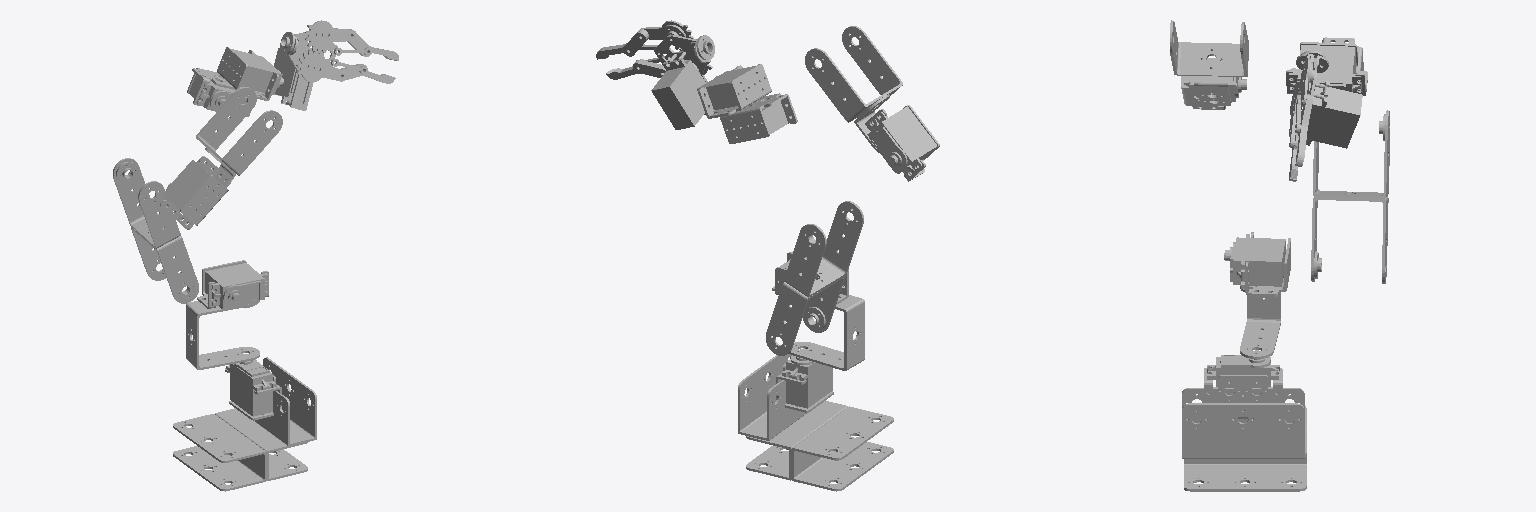
The robot description file, URDF, robot "robotic_arm_model_v2":
<?xml version="1.0" encoding="utf-8"?>
<!-- This URDF was automatically created by SolidWorks to URDF Exporter! Originally created by [author] ([email redacted]) 
     Commit Version: 1.6.0-4-g7f85cfe  Build Version: 1.6.7995.38578
     For more information, please see http://wiki.ros.org/sw_urdf_exporter -->
<robot
  name="robotic_arm_model_v2">
  <link
    name="Link_1">
    <inertial>
      <origin
        xyz="0.00139306780894399 -0.00940529906912735 0.0453587398679983"
        rpy="0 0 0" />
      <mass
        value="0.0953444546366154" />
      <inertia
        ixx="5.93899507525618E-05"
        ixy="-1.95760719485949E-08"
        ixz="-1.60400346152967E-07"
        iyy="2.6536038073633E-05"
        iyz="-1.32399943739737E-07"
        izz="5.70826120419313E-05" />
    </inertial>
    <visual>
      <origin
        xyz="0 0 0"
        rpy="0 0 0" />
      <geometry>
        <mesh
          filename="package://robotic_arm_model_v2/meshes/Link_1.STL" />
      </geometry>
      <material
        name="">
        <color
          rgba="0.752941176470588 0.752941176470588 0.752941176470588 1" />
      </material>
    </visual>
    <collision>
      <origin
        xyz="0 0 0"
        rpy="0 0 0" />
      <geometry>
        <mesh
          filename="package://robotic_arm_model_v2/meshes/Link_1.STL" />
      </geometry>
    </collision>
  </link>
  <link
    name="Link_2">
    <inertial>
      <origin
        xyz="-0.00834673768181382 0.0592848892623844 -0.0104318358374922"
        rpy="0 0 0" />
      <mass
        value="0.0465317343045151" />
      <inertia
        ixx="1.28967179873652E-05"
        ixy="-1.15476212501747E-07"
        ixz="-2.00612047421851E-06"
        iyy="1.41046479531017E-05"
        iyz="1.1020913809783E-07"
        izz="1.28042688740714E-05" />
    </inertial>
    <visual>
      <origin
        xyz="0 0 0"
        rpy="0 0 0" />
      <geometry>
        <mesh
          filename="package://robotic_arm_model_v2/meshes/Link_2.STL" />
      </geometry>
      <material
        name="">
        <color
          rgba="0.752941176470588 0.752941176470588 0.752941176470588 1" />
      </material>
    </visual>
    <collision>
      <origin
        xyz="0 0 0"
        rpy="0 0 0" />
      <geometry>
        <mesh
          filename="package://robotic_arm_model_v2/meshes/Link_2.STL" />
      </geometry>
    </collision>
  </link>
  <joint
    name="Joint_1"
    type="continuous">
    <origin
      xyz="0 0 0.05"
      rpy="0 0 0" />
    <parent
      link="Link_1" />
    <child
      link="Link_2" />
    <axis
      xyz="0 1 0" />
  </joint>
  <link
    name="Link_3">
    <inertial>
      <origin
        xyz="-0.00411555735719238 -0.0490782066853519 0.0151869177885213"
        rpy="0 0 0" />
      <mass
        value="0.0196331437668371" />
      <inertia
        ixx="8.60828290211513E-06"
        ixy="-6.25849778733872E-07"
        ixz="-2.65465712392E-06"
        iyy="1.03763652187604E-05"
        iyz="1.48452113073735E-06"
        izz="1.38316237538039E-05" />
    </inertial>
    <visual>
      <origin
        xyz="0 0 0"
        rpy="0 0 0" />
      <geometry>
        <mesh
          filename="package://robotic_arm_model_v2/meshes/Link_3.STL" />
      </geometry>
      <material
        name="">
        <color
          rgba="0.752941176470588 0.752941176470588 0.752941176470588 1" />
      </material>
    </visual>
    <collision>
      <origin
        xyz="0 0 0"
        rpy="0 0 0" />
      <geometry>
        <mesh
          filename="package://robotic_arm_model_v2/meshes/Link_3.STL" />
      </geometry>
    </collision>
  </link>
  <joint
    name="Joint_2"
    type="continuous">
    <origin
      xyz="-0.013808 0.068 -0.014468"
      rpy="0 0 0" />
    <parent
      link="Link_2" />
    <child
      link="Link_3" />
    <axis
      xyz="1 0 0" />
  </joint>
  <link
    name="Link_4">
    <inertial>
      <origin
        xyz="-0.00444665491595025 0.0223202695441305 -0.00518263328273361"
        rpy="0 0 0" />
      <mass
        value="0.0527193093497026" />
      <inertia
        ixx="1.35233138733539E-05"
        ixy="-6.51337467875423E-07"
        ixz="-2.45290637972249E-06"
        iyy="1.23208076947286E-05"
        iyz="1.80348552476092E-06"
        izz="1.78382591990529E-05" />
    </inertial>
    <visual>
      <origin
        xyz="0 0 0"
        rpy="0 0 0" />
      <geometry>
        <mesh
          filename="package://robotic_arm_model_v2/meshes/Link_4.STL" />
      </geometry>
      <material
        name="">
        <color
          rgba="0.752941176470588 0.752941176470588 0.752941176470588 1" />
      </material>
    </visual>
    <collision>
      <origin
        xyz="0 0 0"
        rpy="0 0 0" />
      <geometry>
        <mesh
          filename="package://robotic_arm_model_v2/meshes/Link_4.STL" />
      </geometry>
    </collision>
  </link>
  <joint
    name="Joint_3"
    type="continuous">
    <origin
      xyz="-0.011907 -0.098173 0.028798"
      rpy="0 0 0" />
    <parent
      link="Link_3" />
    <child
      link="Link_4" />
    <axis
      xyz="1 0 0" />
  </joint>
  <link
    name="Link_5">
    <inertial>
      <origin
        xyz="0.000679680189040077 0.0122665484013129 0.0211158228704872"
        rpy="0 0 0" />
      <mass
        value="0.0734303247872166" />
      <inertia
        ixx="1.38233645740671E-05"
        ixy="8.61051491118209E-07"
        ixz="-2.17371805074157E-06"
        iyy="1.39325618071774E-05"
        iyz="-2.30776403389571E-06"
        izz="1.90390713191208E-05" />
    </inertial>
    <visual>
      <origin
        xyz="0 0 0"
        rpy="0 0 0" />
      <geometry>
        <mesh
          filename="package://robotic_arm_model_v2/meshes/Link_5.STL" />
      </geometry>
      <material
        name="">
        <color
          rgba="0.752941176470588 0.752941176470588 0.752941176470588 1" />
      </material>
    </visual>
    <collision>
      <origin
        xyz="0 0 0"
        rpy="0 0 0" />
      <geometry>
        <mesh
          filename="package://robotic_arm_model_v2/meshes/Link_5.STL" />
      </geometry>
    </collision>
  </link>
  <joint
    name="Joint_4"
    type="continuous">
    <origin
      xyz="0.0087856 0.094286 -0.021316"
      rpy="0 0 0" />
    <parent
      link="Link_4" />
    <child
      link="Link_5" />
    <axis
      xyz="1 0 0" />
  </joint>
  <link
    name="Link_6">
    <inertial>
      <origin
        xyz="0.000490956447003033 0.0365600823816492 0.0629614150153786"
        rpy="0 0 0" />
      <mass
        value="0.0505964512602664" />
      <inertia
        ixx="9.1057804910603E-06"
        ixy="-4.1013347615792E-07"
        ixz="3.07553808060529E-07"
        iyy="8.4892606377326E-06"
        iyz="1.22622100929367E-06"
        izz="8.6626497442181E-06" />
    </inertial>
    <visual>
      <origin
        xyz="0 0 0"
        rpy="0 0 0" />
      <geometry>
        <mesh
          filename="package://robotic_arm_model_v2/meshes/Link_6.STL" />
      </geometry>
      <material
        name="">
        <color
          rgba="0.752941176470588 0.752941176470588 0.752941176470588 1" />
      </material>
    </visual>
    <collision>
      <origin
        xyz="0 0 0"
        rpy="0 0 0" />
      <geometry>
        <mesh
          filename="package://robotic_arm_model_v2/meshes/Link_6.STL" />
      </geometry>
    </collision>
  </link>
  <joint
    name="Joint_5"
    type="continuous">
    <origin
      xyz="0.0075284 0.0019156 0.035067"
      rpy="0 0 0" />
    <parent
      link="Link_5" />
    <child
      link="Link_6" />
    <axis
      xyz="0 -1 -1" />
  </joint>
</robot>

--- Facts derived from the render (not from the file) ---
3 views of the same robot in one strip: view 1: azimuth 30°, elevation 25°; view 2: azimuth 150°, elevation 25°; view 3: azimuth 270°, elevation 25° (orthographic).
Model robotic_arm_model_v2 with 6 links and 5 joints (5 continuous), rooted at Link_1, posed every joint at zero.
Links seen in each view (by area): view 1: Link_1, Link_4, Link_3, Link_6, Link_2, Link_5; view 2: Link_1, Link_4, Link_3, Link_6, Link_5, Link_2; view 3: Link_1, Link_2, Link_6, Link_4, Link_5, Link_3.
Link boxes in pixels (<box>): Link_1: <box>173,354,316,491</box>; Link_4: <box>160,87,282,229</box>; Link_3: <box>113,158,198,303</box>; Link_6: <box>274,20,398,110</box>; Link_2: <box>186,260,268,369</box>; Link_5: <box>187,47,283,116</box>; Link_1: <box>738,348,893,491</box>; Link_4: <box>805,26,939,181</box>; Link_3: <box>766,201,863,355</box>; Link_6: <box>596,20,714,129</box>; Link_5: <box>697,64,797,143</box>; Link_2: <box>772,252,864,370</box>; Link_1: <box>1182,350,1306,491</box>; Link_2: <box>1224,232,1290,358</box>; Link_6: <box>1289,50,1362,181</box>; Link_4: <box>1170,20,1248,109</box>; Link_5: <box>1286,37,1367,95</box>; Link_3: <box>1311,110,1389,283</box>.
Bounding box of the posed robot: 0.2688 × 0.1618 × 0.3782 m (x, y, z).
Meshes: 6 distinct files referenced, 6 mesh visuals loaded (6 binary STL).